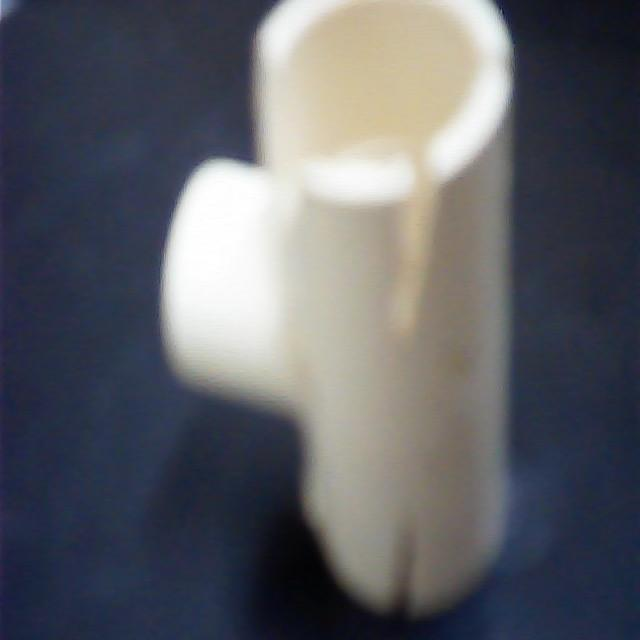Defective: (362, 154, 452, 336), (380, 499, 439, 629)
T Joint: (161, 0, 514, 618)
